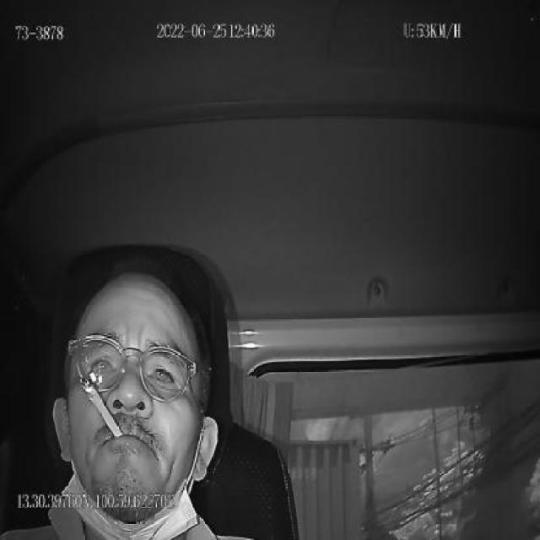smoking: (80, 376, 123, 440)
